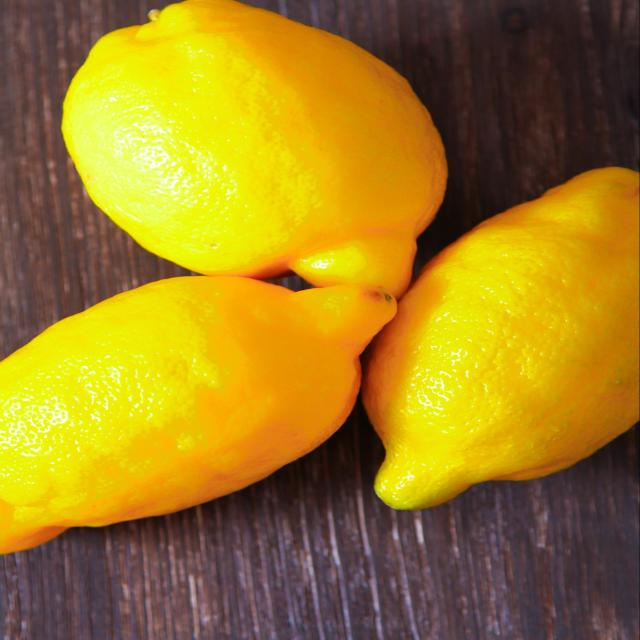lemon: (55, 0, 459, 307)
